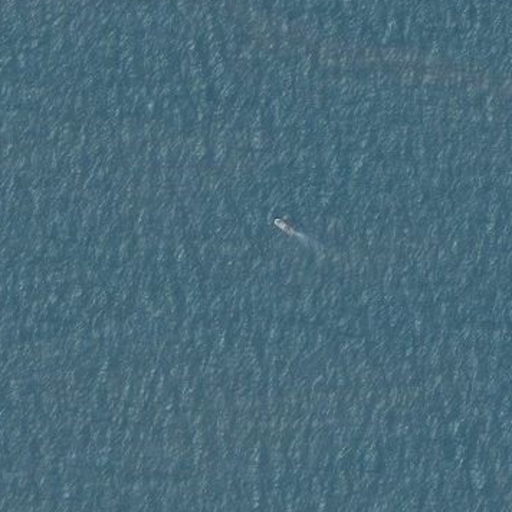ship: (270, 216, 293, 235)
